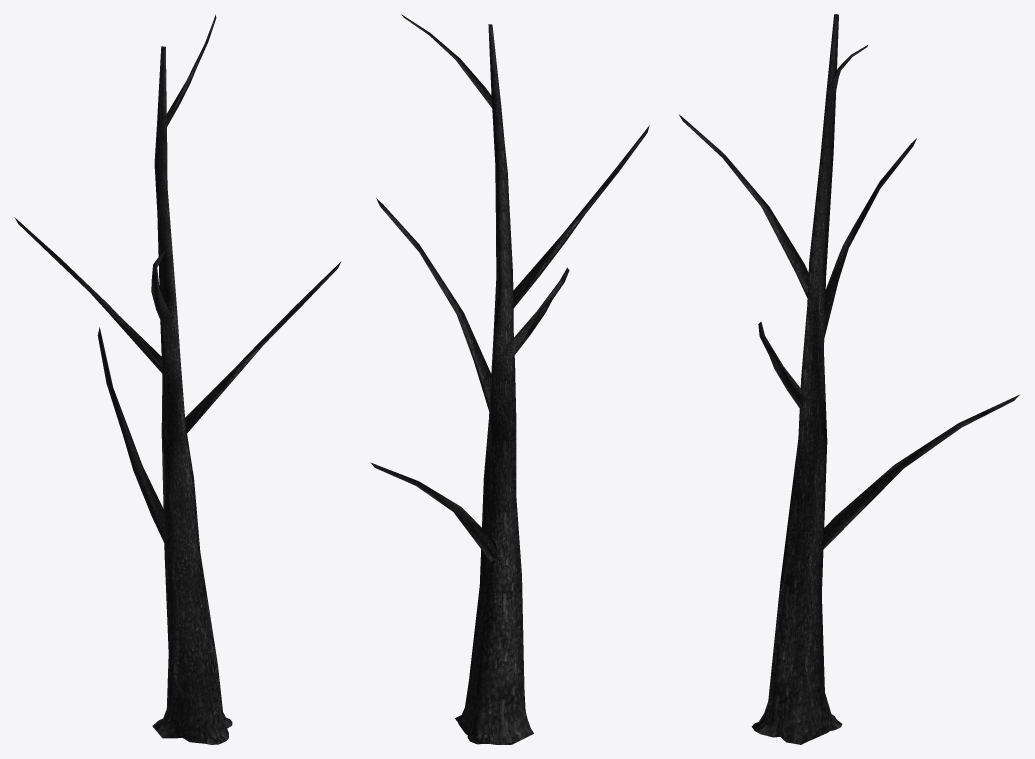
Rendered from tree_9.glb.
3 views of the same model, side by side, from view 1: azimuth 30°, elevation 25°; view 2: azimuth 150°, elevation 25°; view 3: azimuth 270°, elevation 25° (orthographic). The views are drawn at different scales.
Parts seen in each view (by area): view 1: tree_9; view 2: tree_9; view 3: tree_9.
Part boxes in pixels (bbox=[...]): tree_9: bbox=[14, 14, 341, 744]; tree_9: bbox=[370, 14, 649, 744]; tree_9: bbox=[679, 14, 1019, 744].
Size of the model in its own units: 1.75 by 4.48 by 1.96.
1 material, 1 textured.
